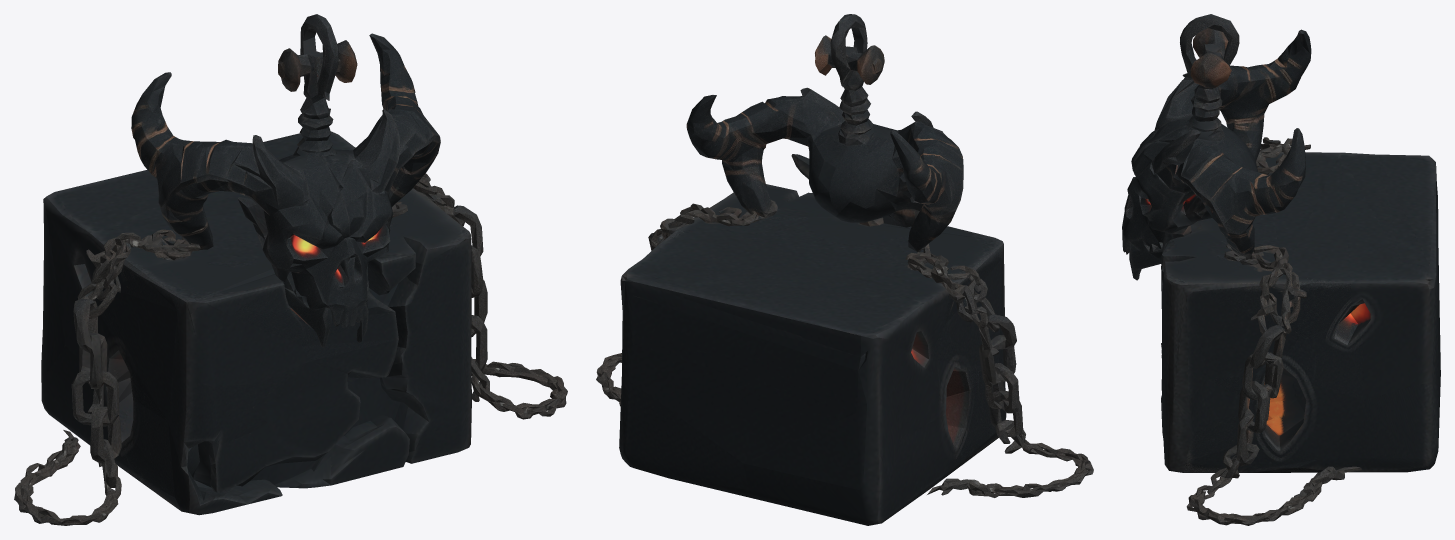
Rendered from wave-lever-2.glb.
3 views of the same model, side by side, from view 1: azimuth 30°, elevation 25°; view 2: azimuth 150°, elevation 25°; view 3: azimuth 270°, elevation 25° (orthographic). The views are drawn at different scales.
Size of the model in its own units: 1.9 by 1.5 by 1.08.
1 material, 1 textured.
